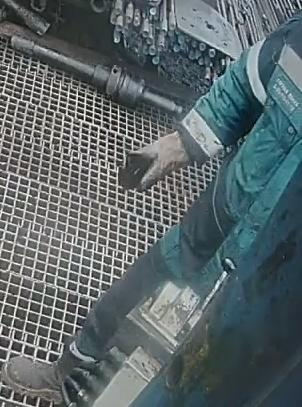gloves: (117, 128, 196, 193)
vest: (175, 13, 301, 265)
